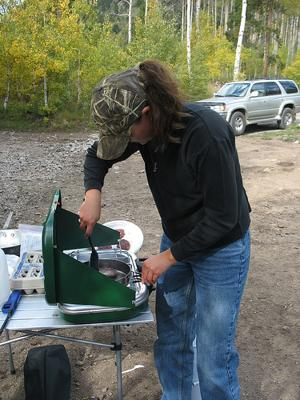person: (78, 62, 252, 398)
